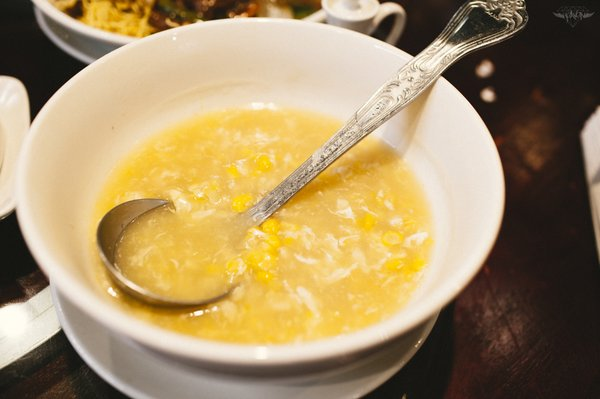salad: (219, 0, 528, 273)
sushi: (12, 17, 531, 388), (31, 0, 349, 67)
